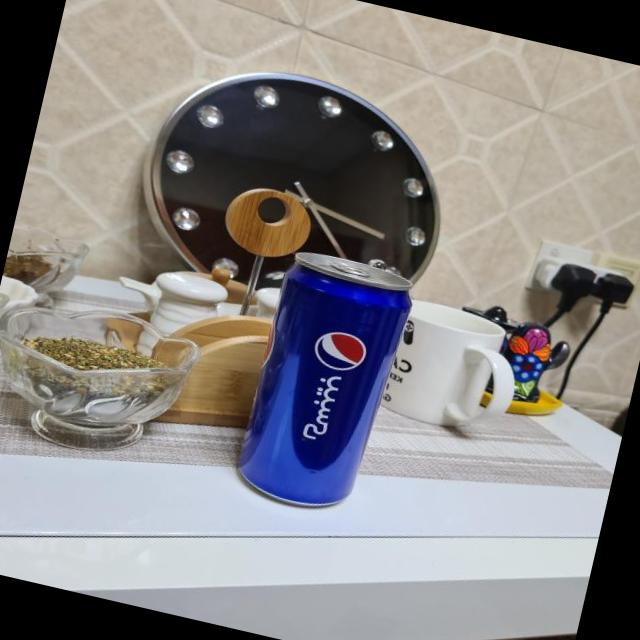Kaleng: (221, 248, 417, 526)
